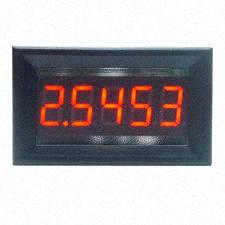.: (62, 120, 68, 127)
2: (39, 84, 63, 126)
3: (161, 86, 182, 127)
4: (100, 87, 124, 126)
5: (70, 84, 93, 127), (130, 86, 151, 127)
